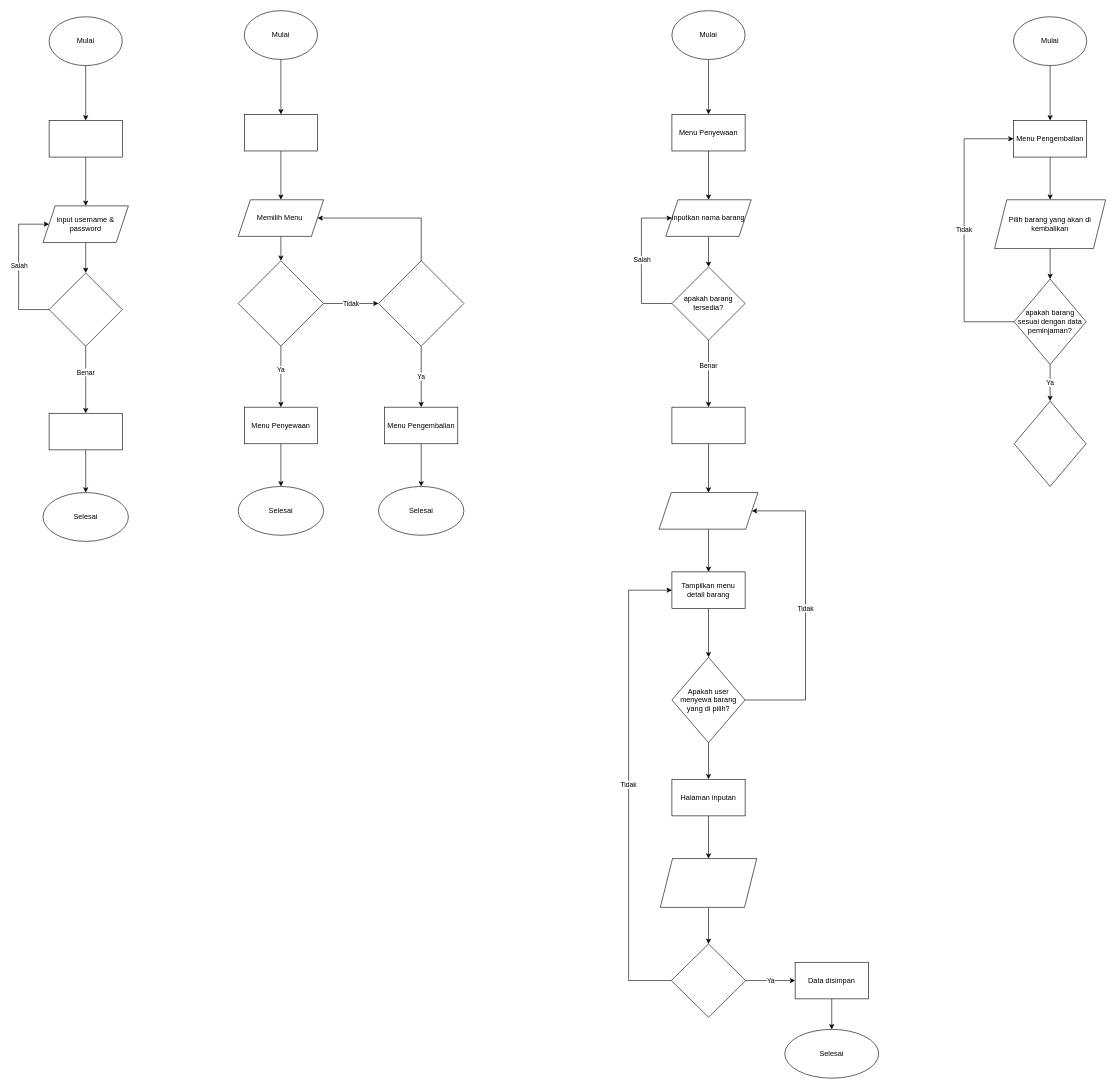
Some shapes in this 1116 by 1089 pixel diagram are drawn without their labels. Here are the shapes that lost their labels. From the top down, the centre of each, then its label:
At (85,138): "Menu Login".
At (281,132): "Menu Dashboard".
At (85,309): "Cek username & password".
At (281,303): "apakah user memilih menu penyewaan?".
At (421,303): "apakah user memilih menu pengembalian?".
At (85,431): "Dashboard".
At (708,425): "Tampilkan daftar barang".
At (1050,443): "Apakah Ada keterlambatan pengembalian?".
At (708,510): "User memilih barang".
At (708,882): "Masukkan nomor induk KTP/SIM/KK".
At (708,980): "Apakah memenuhi syarat validasi?".
